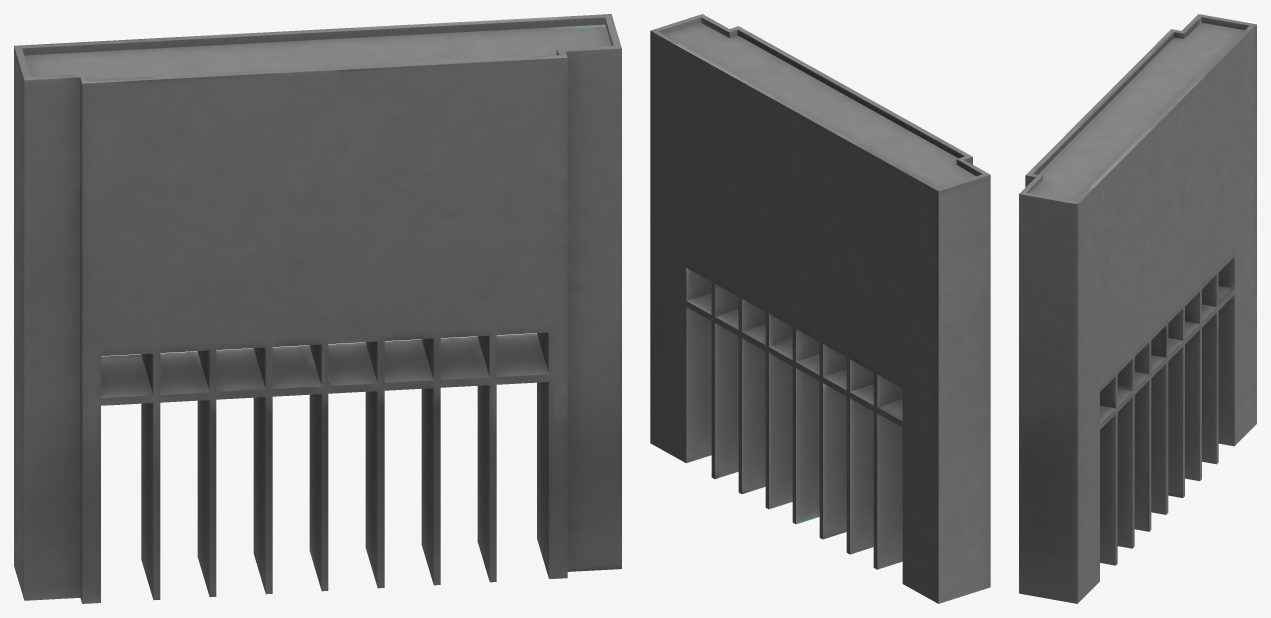
Rendered from Screen.fbx.
3 views of the same model, side by side, from view 1: azimuth 30°, elevation 25°; view 2: azimuth 150°, elevation 25°; view 3: azimuth 270°, elevation 25° (orthographic). The views are drawn at different scales.
Parts seen in each view (by area): view 1: polySurface189; view 2: polySurface189; view 3: polySurface189.
Boxes of the visible parts, x1,y1,x2,y2 form: polySurface189: [14, 14, 621, 603]; polySurface189: [650, 14, 990, 603]; polySurface189: [1019, 14, 1256, 603].
Size of the model in its own units: 4479 by 4380 by 2364.
